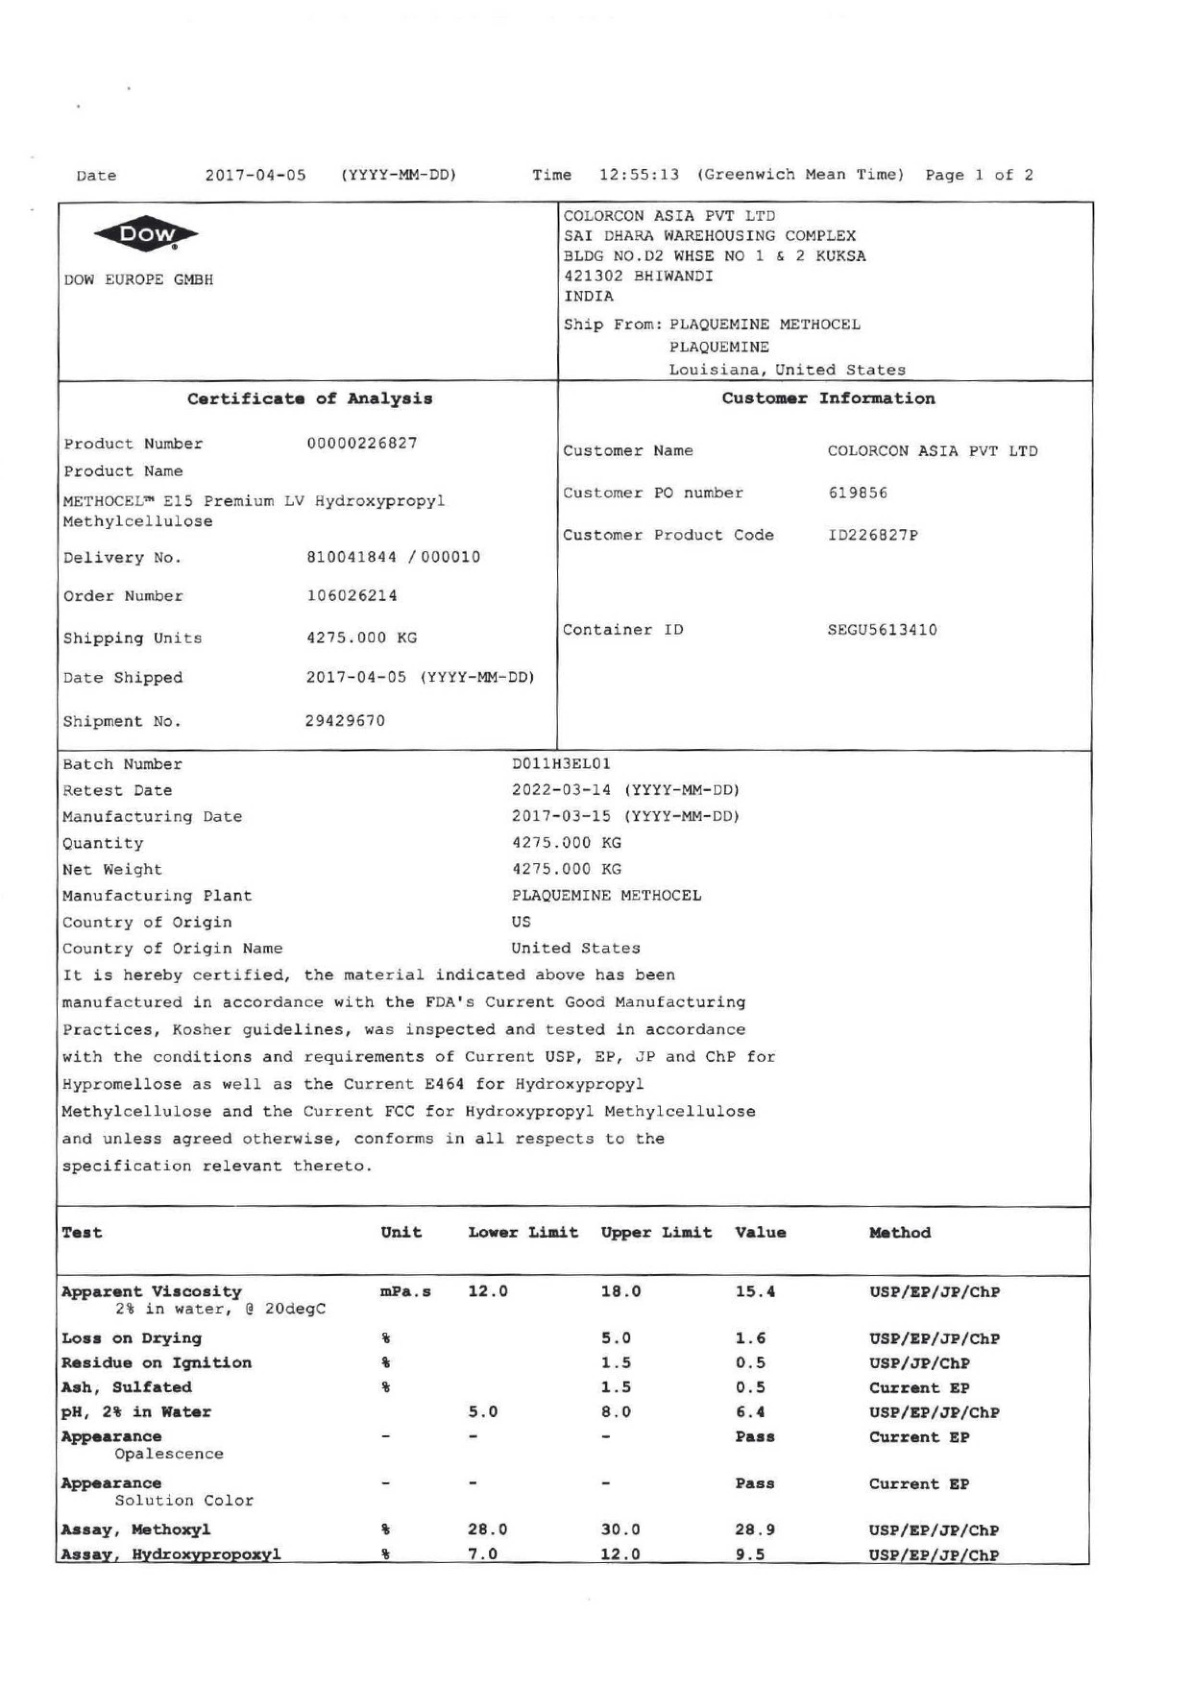merged_cells: (55, 200, 1089, 1569)
